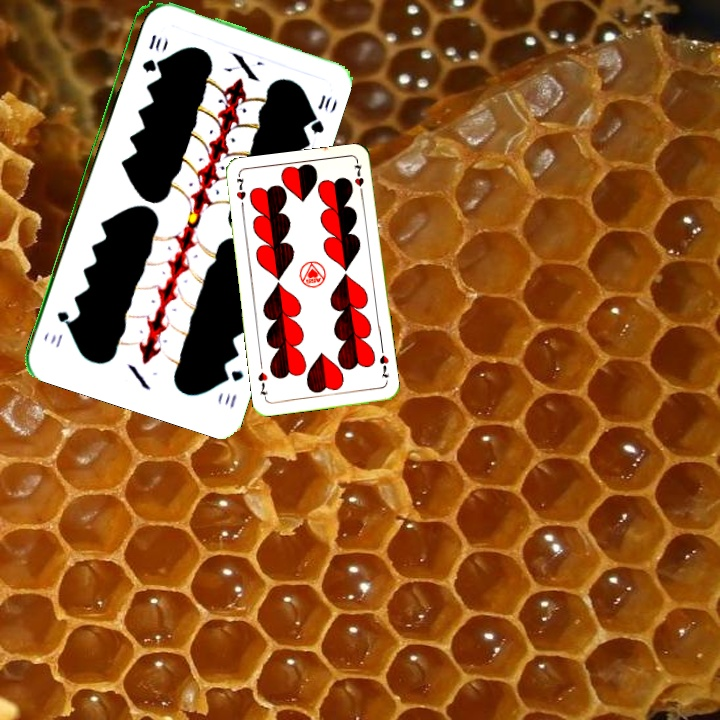G10: (218, 366, 246, 411), (138, 30, 159, 75)
H7: (232, 172, 248, 213), (375, 351, 392, 380)
